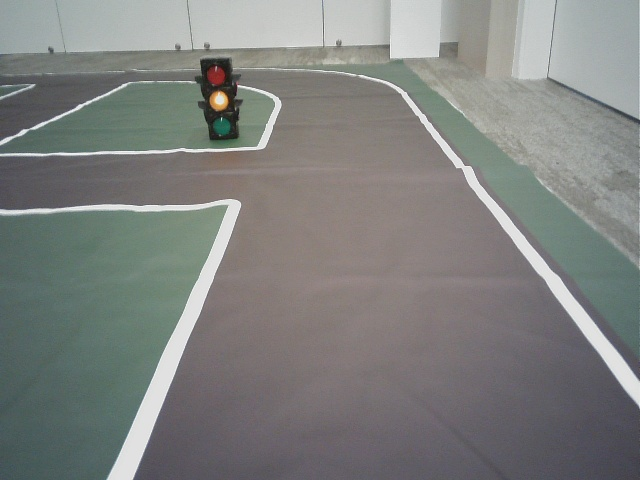yellow: (202, 59, 233, 136)
